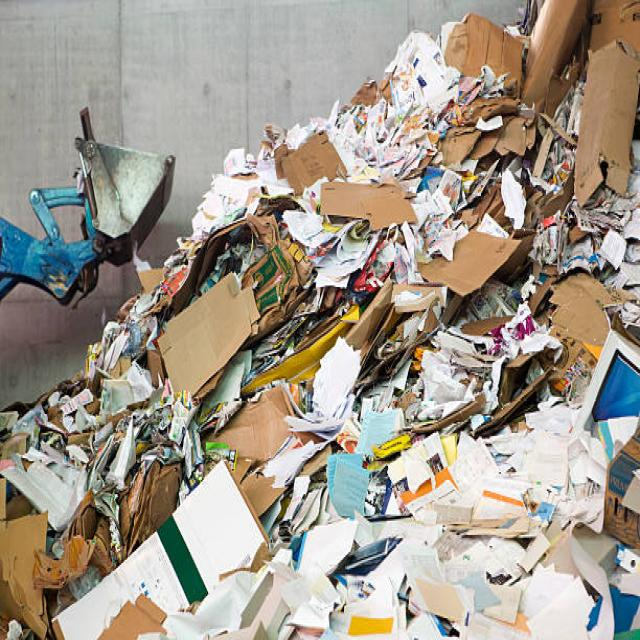electronic: (156, 270, 260, 400), (573, 38, 639, 207), (320, 177, 417, 231), (310, 334, 360, 419), (326, 450, 370, 518), (500, 168, 526, 229)
